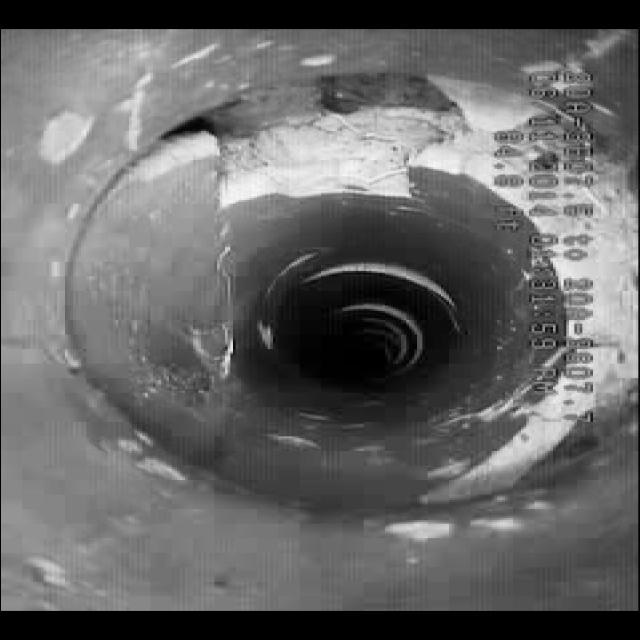Fracture: (200, 60, 468, 227)
